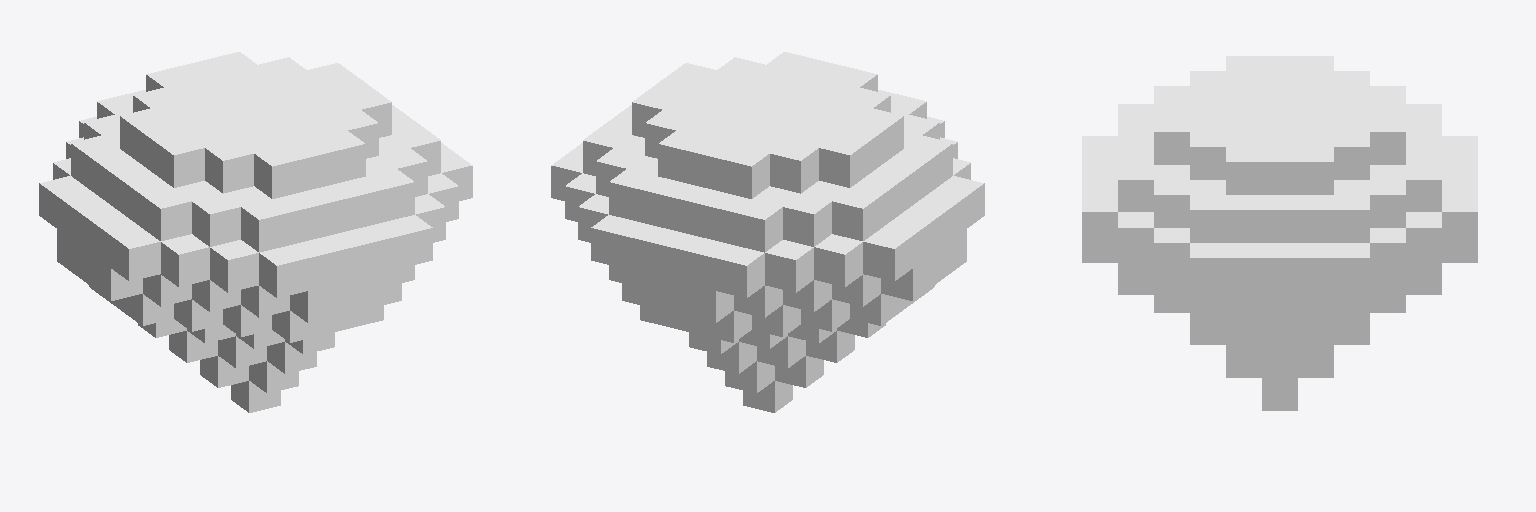
Rendered from _17_Model_Diamond.obj.
3 renders of one model, left to right at view 1: azimuth 30°, elevation 25°; view 2: azimuth 150°, elevation 25°; view 3: azimuth 270°, elevation 25°, orthographic.
Parts seen in each view (by area): view 1: _17_Model_Diamond; view 2: _17_Model_Diamond; view 3: _17_Model_Diamond.
Boxes of the visible parts, x1=… form: _17_Model_Diamond: x1=39, y1=52, x2=472, y2=412; _17_Model_Diamond: x1=551, y1=52, x2=984, y2=412; _17_Model_Diamond: x1=1082, y1=56, x2=1477, y2=410.
Size of the model in its own units: 11 by 9 by 11.